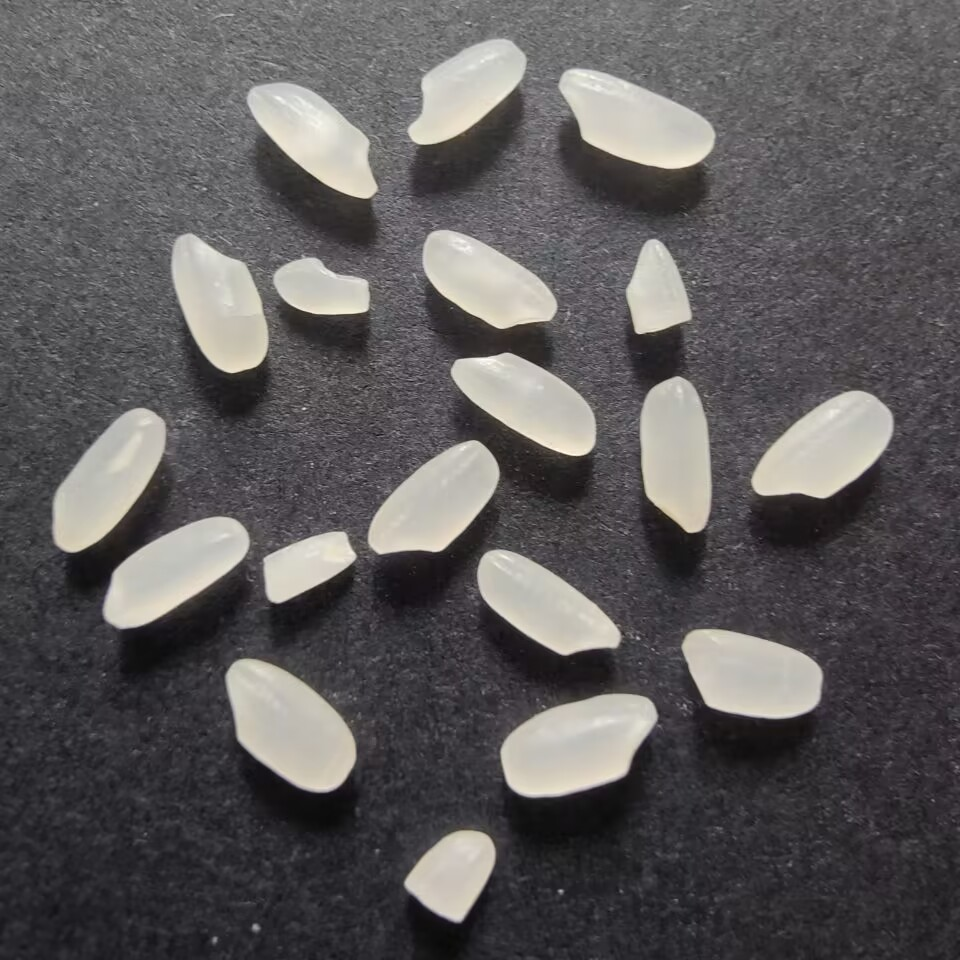broken: (398, 825, 500, 931), (256, 525, 360, 611), (618, 231, 699, 341), (262, 251, 384, 323)
rice: (216, 654, 363, 795), (41, 402, 171, 559), (551, 60, 719, 174), (99, 513, 250, 639), (491, 688, 659, 801), (243, 76, 383, 204), (746, 385, 899, 502), (471, 546, 626, 660), (443, 348, 599, 456), (420, 225, 565, 339), (166, 230, 277, 378), (404, 31, 535, 149), (673, 627, 825, 726), (634, 370, 716, 539)
